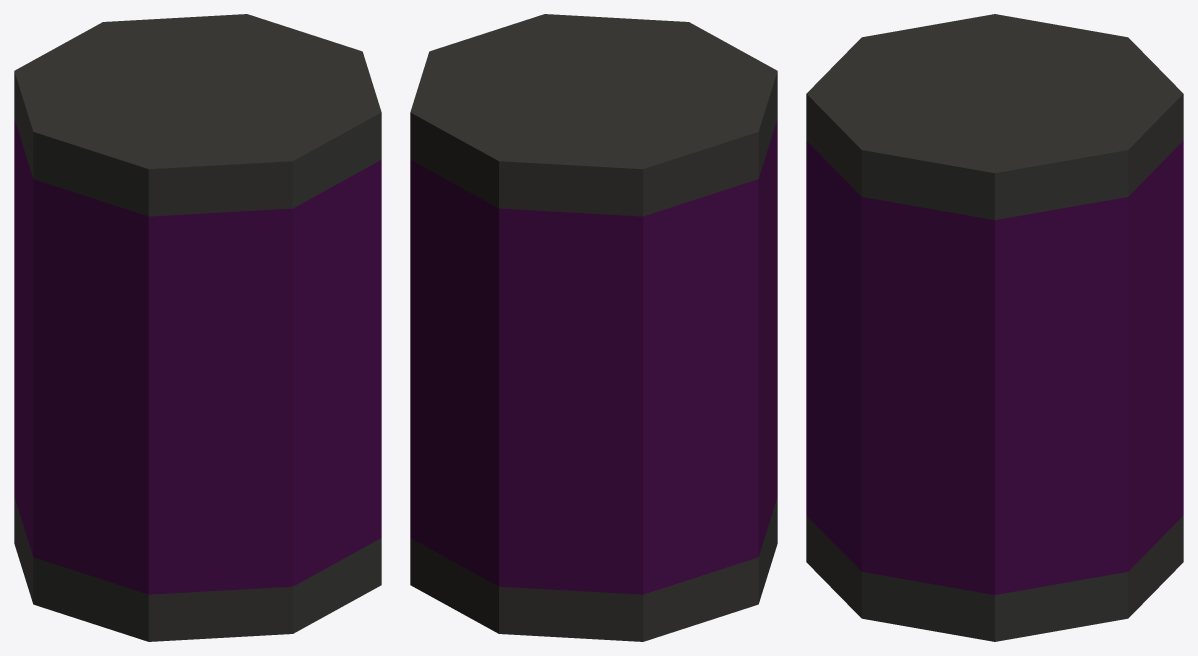
Rendered from SM_Single_Can_Pink.fbx.
3 views of the same model, side by side, from view 1: azimuth 30°, elevation 25°; view 2: azimuth 150°, elevation 25°; view 3: azimuth 270°, elevation 25° (orthographic).
Parts seen in each view (by area): view 1: SM_Can_Var3; view 2: SM_Can_Var3; view 3: SM_Can_Var3.
Part boxes in pixels (box(x1,y1,x2,y2)): SM_Can_Var3: box(14, 14, 381, 641); SM_Can_Var3: box(410, 14, 777, 641); SM_Can_Var3: box(806, 14, 1183, 641).
Bounding box in the file's own units: 0.0934 × 0.1281 × 0.0934.
